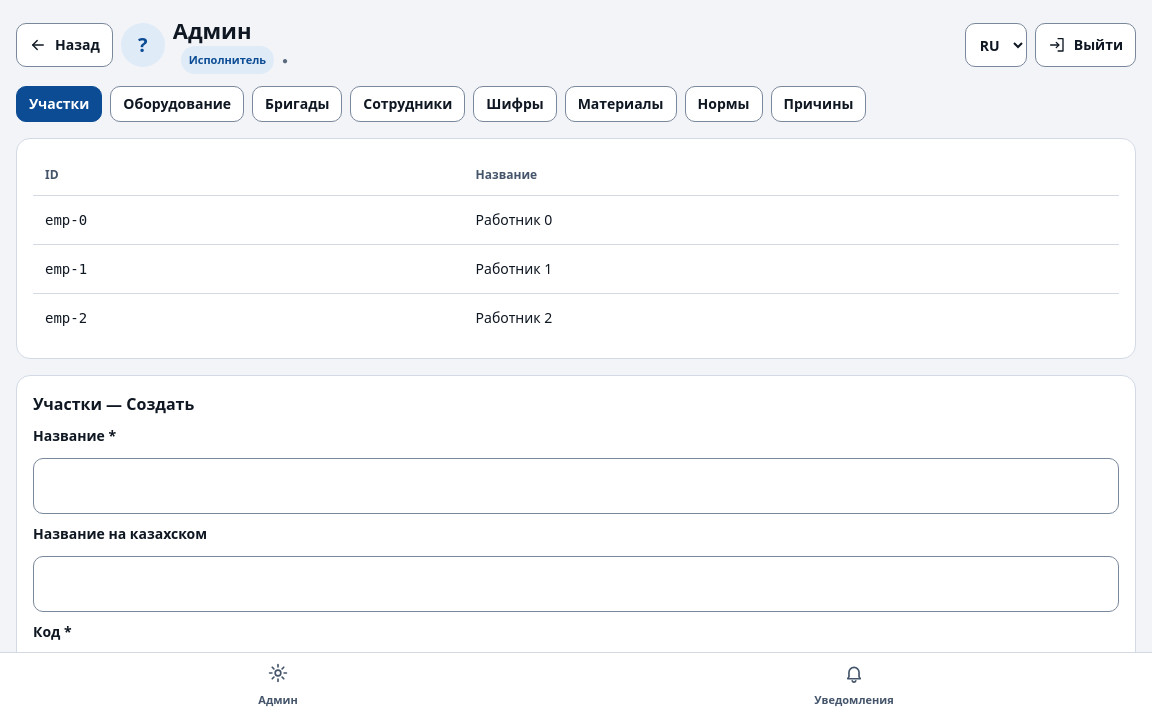
Test case: AdminPage employees › renders employee rows
The width and height of the screenshot is (1152, 720).
Expected: the text "Работник 0" is shown, [464,196,1119,244]
Click the button "Сотрудники".
click(408, 104)  # box [350,86,465,122]
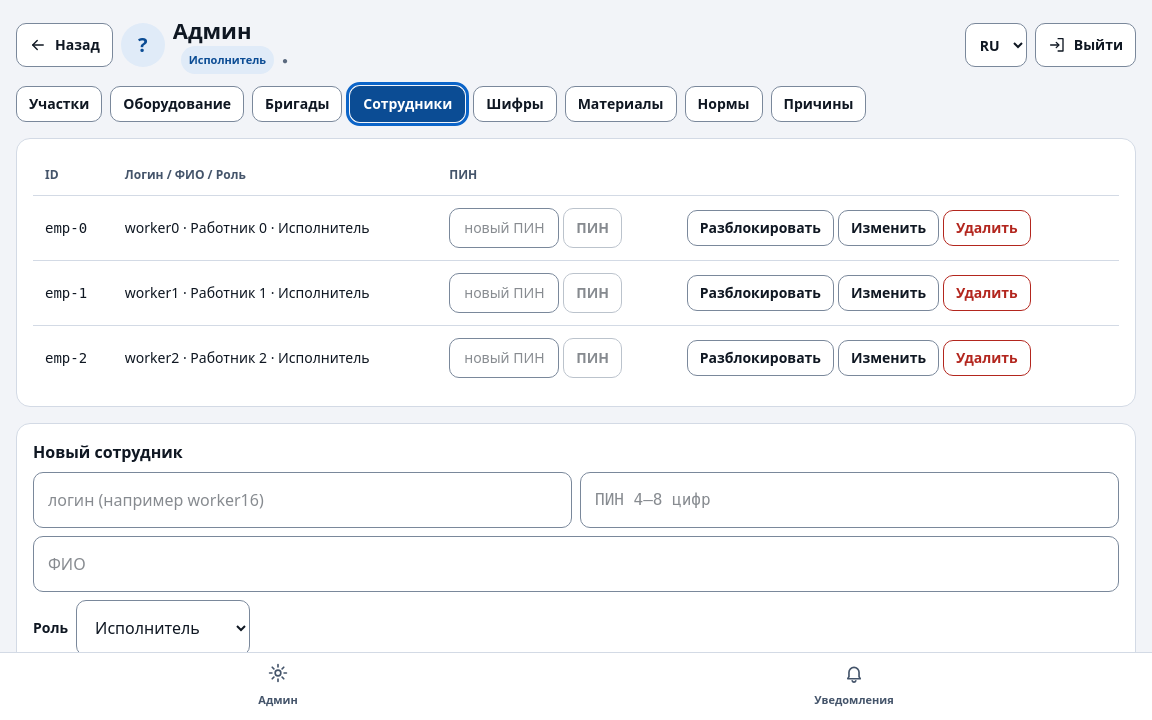
Expected: the text "worker0 · Работник 0 · Исполнитель" is shown, [113,196,437,260]
